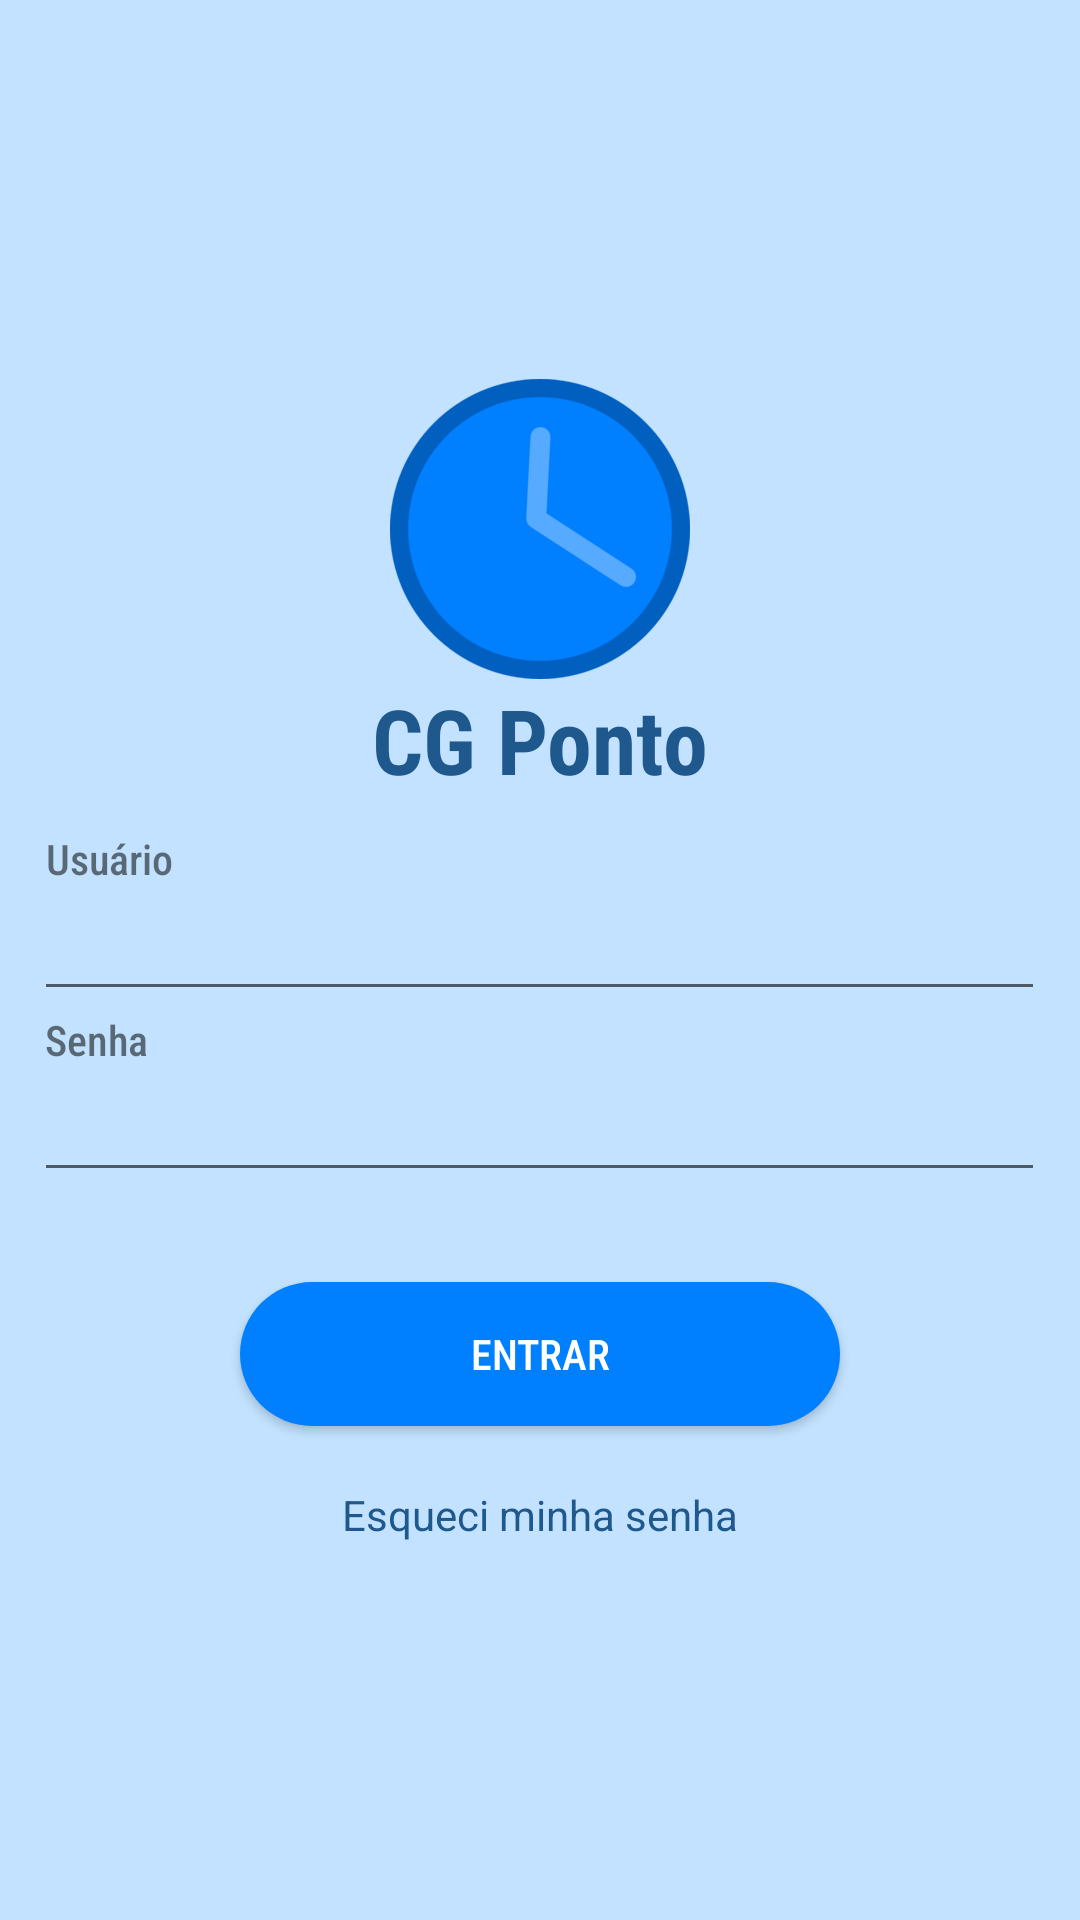

Where icons sit on this 1080*1920 app screen, as (x1, y1, x2, y2):
clock md: (390, 379, 690, 679)
